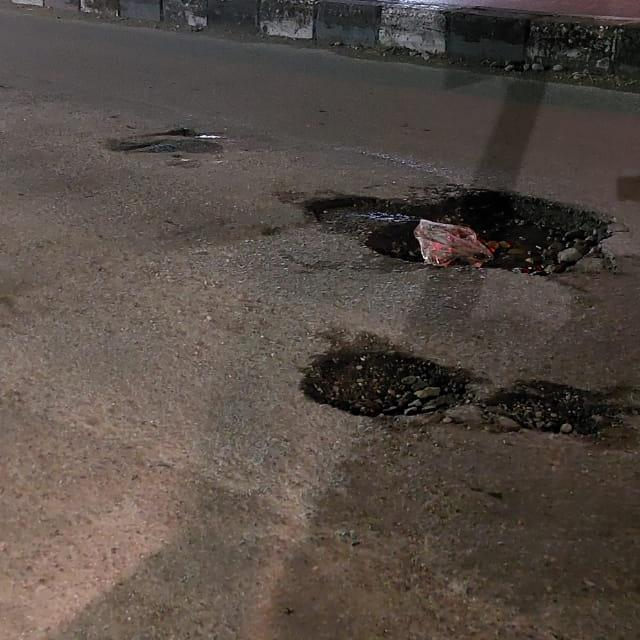lubang_kecil: (286, 160, 620, 288), (268, 310, 476, 448), (474, 354, 626, 460)
